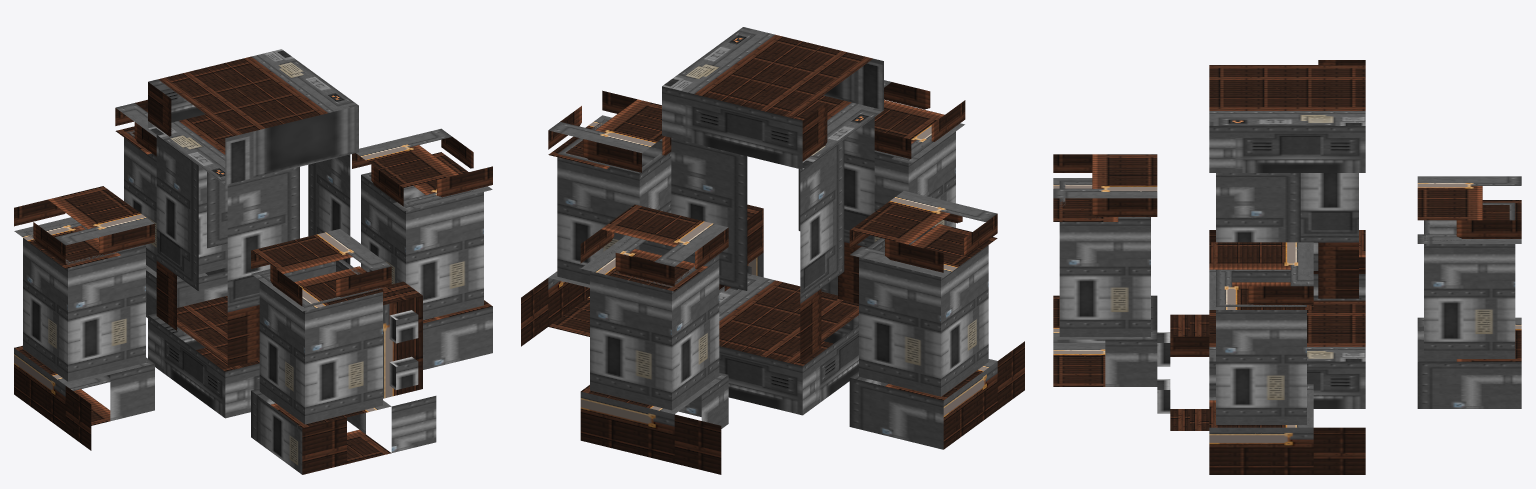
The model's file is old_chemical_reactor.obj.
3 views of the same model, side by side, from view 1: azimuth 30°, elevation 25°; view 2: azimuth 150°, elevation 25°; view 3: azimuth 270°, elevation 25° (orthographic). The views are drawn at different scales.
Visible parts, largest first — view 1: cube.037; view 2: cube.037; view 3: cube.037.
Boxes of the visible parts, bbox=[...] form: cube.037: bbox=[14, 49, 492, 474]; cube.037: bbox=[521, 27, 1024, 474]; cube.037: bbox=[1053, 60, 1521, 474].
Size of the model in its own units: 9 by 6 by 9.
